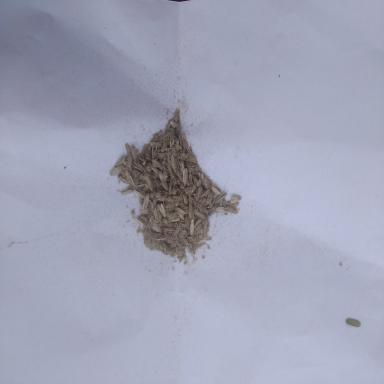pbw: (128, 146, 138, 163), (174, 207, 186, 220), (156, 192, 170, 203), (195, 185, 202, 207), (156, 204, 167, 218), (188, 182, 196, 201), (151, 221, 163, 233), (184, 157, 197, 168), (214, 204, 228, 214), (203, 173, 211, 190), (205, 191, 213, 208), (155, 171, 166, 183), (193, 208, 205, 219), (110, 165, 122, 176), (117, 174, 130, 184), (198, 206, 211, 216), (142, 193, 150, 209), (188, 198, 194, 219), (125, 154, 132, 172), (135, 187, 145, 199), (211, 185, 221, 197), (176, 178, 186, 190), (146, 214, 154, 229), (180, 190, 188, 205), (115, 154, 125, 166), (118, 187, 134, 194), (146, 175, 153, 191), (230, 195, 242, 204), (227, 205, 239, 214), (155, 152, 170, 159), (178, 159, 184, 176), (200, 189, 210, 199), (152, 159, 162, 169), (184, 166, 198, 173), (188, 241, 195, 255), (152, 142, 158, 158), (222, 199, 228, 215), (208, 198, 216, 210), (131, 170, 139, 182), (132, 164, 144, 172), (173, 109, 180, 122), (150, 164, 159, 174), (183, 168, 188, 186), (150, 133, 160, 142), (150, 199, 156, 214), (162, 180, 170, 191), (178, 222, 189, 230), (178, 248, 184, 262), (198, 172, 204, 186), (176, 170, 183, 182), (171, 195, 183, 202), (150, 141, 162, 148), (188, 172, 194, 186), (168, 170, 177, 179), (168, 234, 176, 244), (194, 218, 202, 228), (140, 207, 150, 215), (167, 217, 180, 223), (153, 207, 159, 220), (136, 181, 147, 188), (182, 135, 187, 150), (174, 224, 180, 236), (227, 201, 239, 207), (156, 236, 168, 242), (162, 202, 174, 208), (180, 237, 187, 247), (179, 228, 186, 238), (209, 204, 216, 214), (190, 219, 194, 236), (125, 143, 131, 154), (161, 140, 166, 153), (163, 227, 176, 232), (168, 180, 172, 196), (172, 154, 176, 170), (144, 144, 148, 160), (170, 120, 178, 128), (119, 170, 127, 178), (203, 218, 207, 234), (158, 134, 167, 141), (172, 146, 177, 158), (162, 241, 167, 253), (185, 156, 193, 163), (178, 152, 186, 159), (162, 156, 167, 166), (165, 124, 171, 132), (141, 216, 148, 222), (184, 231, 190, 238), (202, 236, 212, 240), (178, 137, 182, 147), (168, 154, 170, 166), (172, 138, 175, 146), (169, 140, 172, 148)
